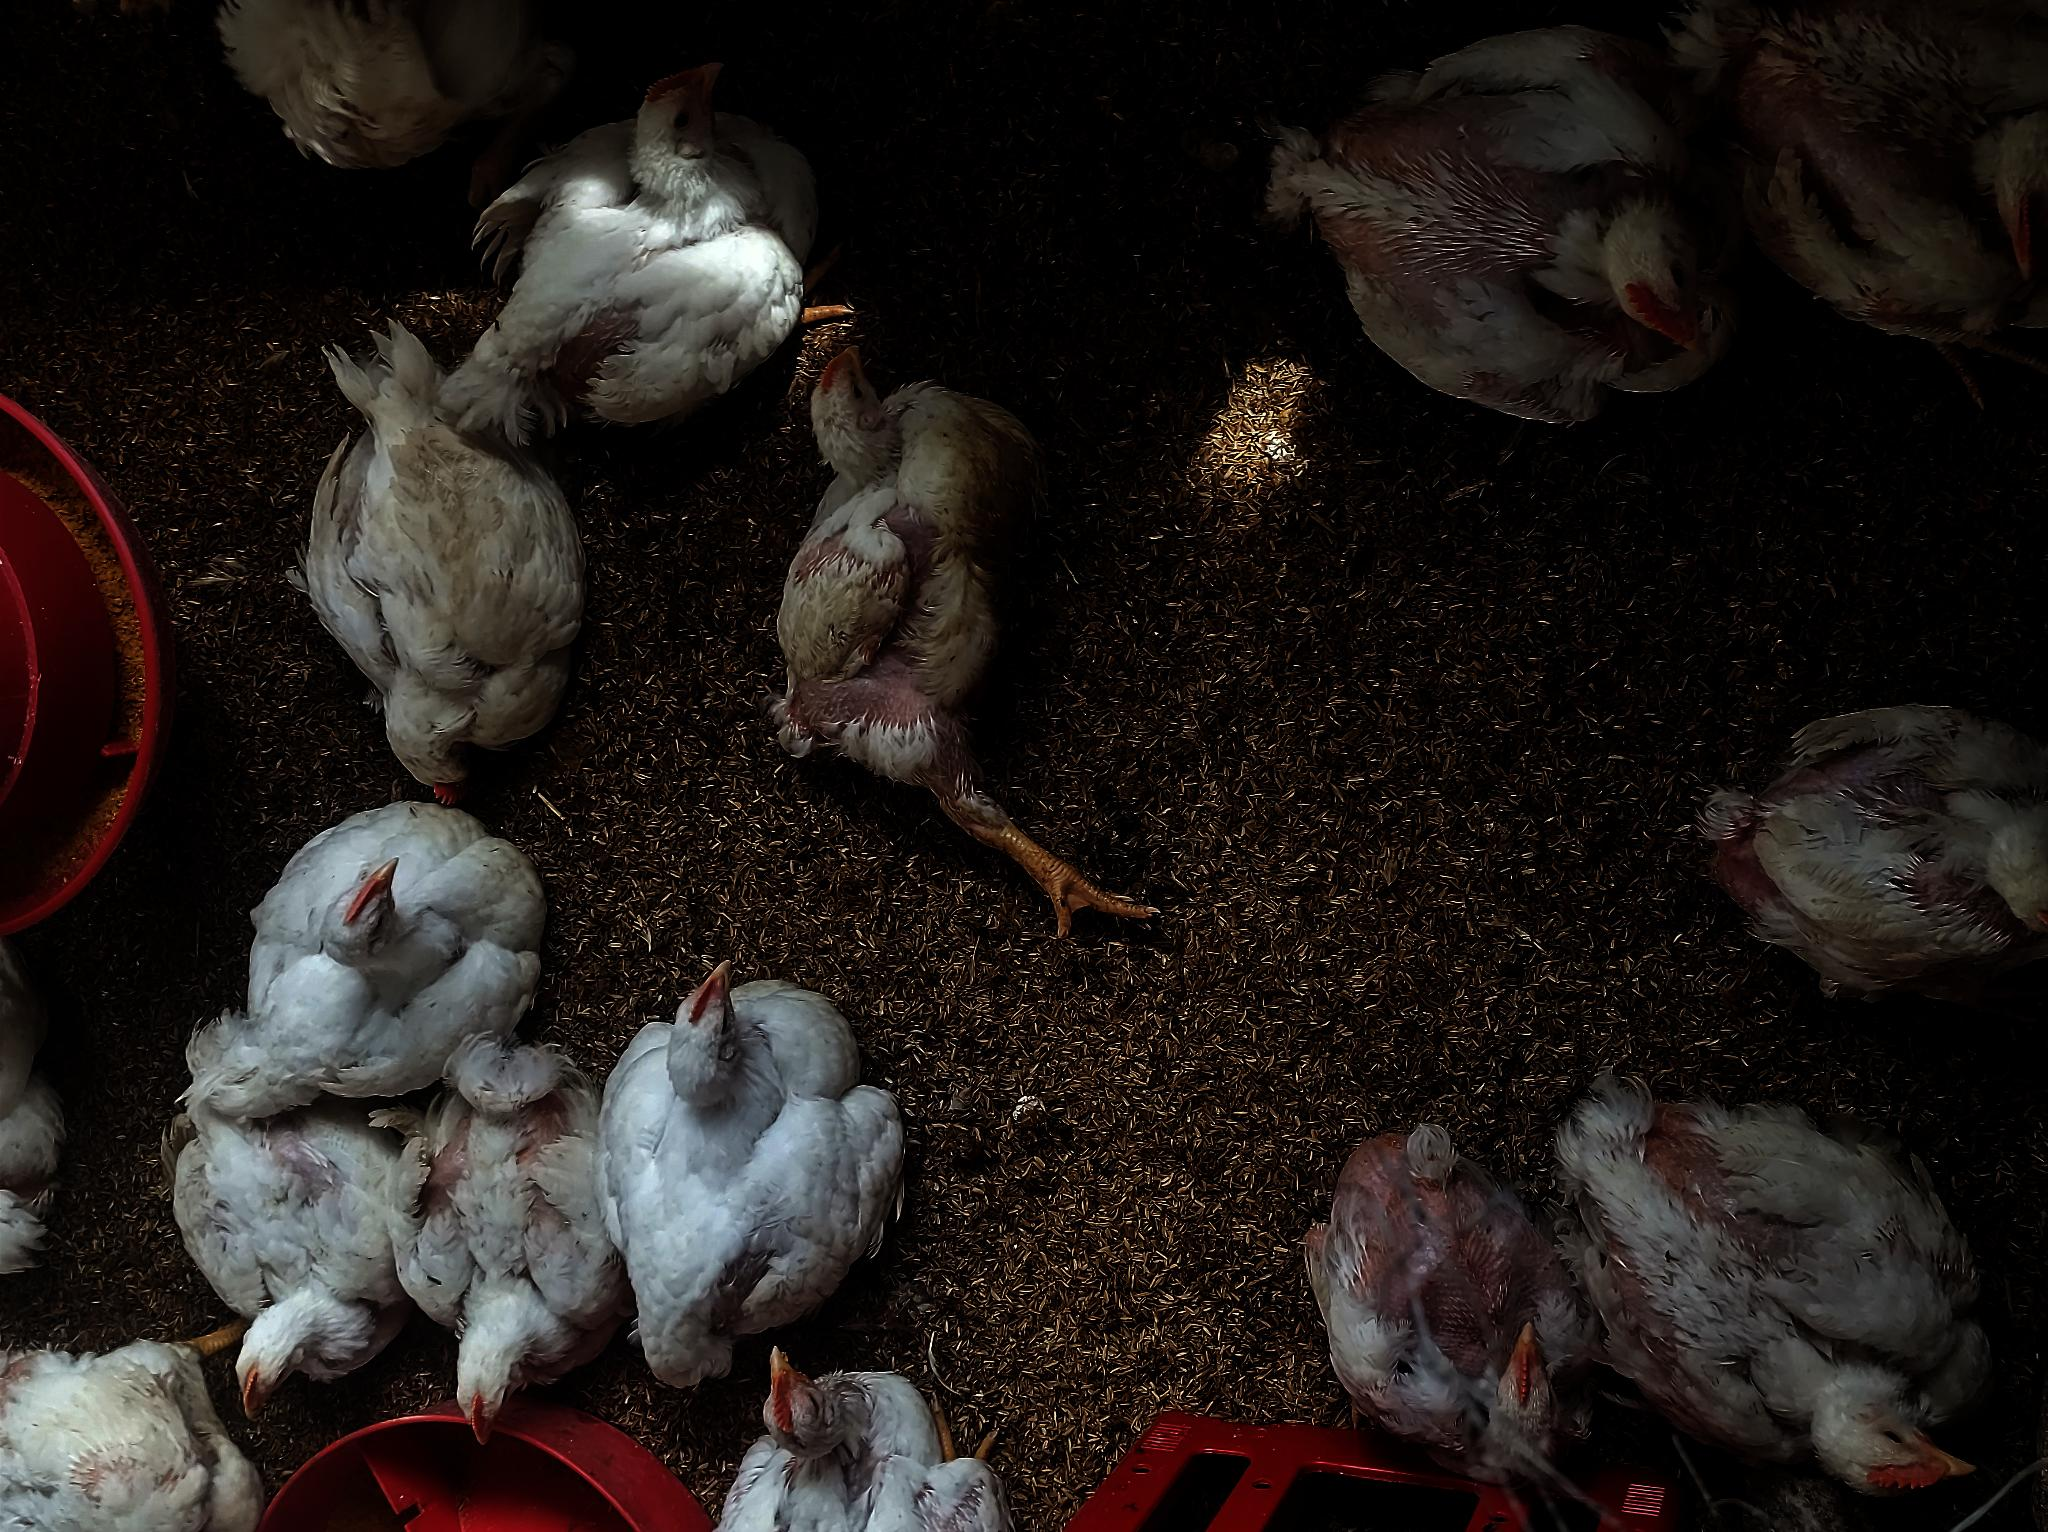Pollos: (1585, 1032, 2048, 1495), (1279, 18, 1741, 439), (788, 315, 1115, 850), (1723, 655, 2048, 1072), (294, 336, 607, 756), (587, 961, 943, 1324), (343, 988, 624, 1418), (1343, 1069, 1612, 1514), (1713, 0, 2048, 336), (158, 1015, 449, 1384), (491, 87, 819, 401), (220, 785, 557, 1089), (228, 0, 541, 225), (698, 1344, 1026, 1532), (0, 1287, 241, 1532)
